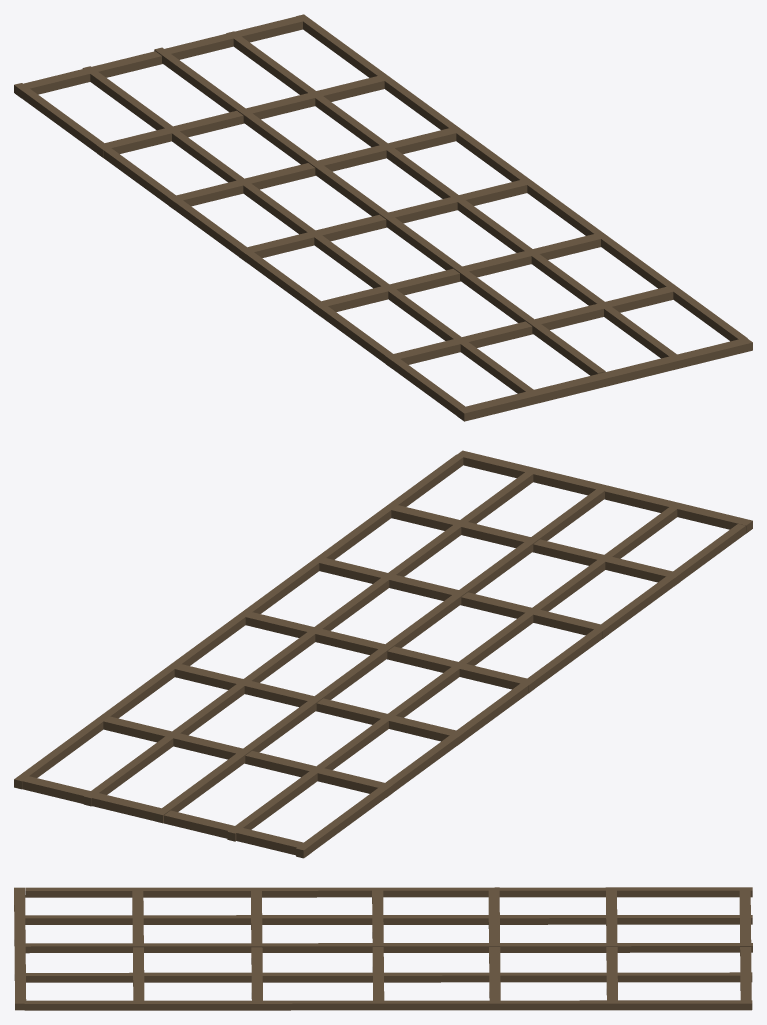
The model's file is çıta001.fbx.
The picture shows the model from 3 angles, top to bottom: view 1: azimuth 30°, elevation 25°; view 2: azimuth 150°, elevation 25°; view 3: azimuth 270°, elevation 25°; orthographic projection. The views are drawn at different scales.
Visible parts, largest first — view 1: Cube.089; view 2: Cube.089; view 3: Cube.089.
Part boxes in pixels (bbox=[...]): Cube.089: bbox=[14, 14, 752, 421]; Cube.089: bbox=[14, 450, 752, 858]; Cube.089: bbox=[14, 887, 752, 1010].
Bounding box in the file's own units: 1521 × 45.43 × 4073.
